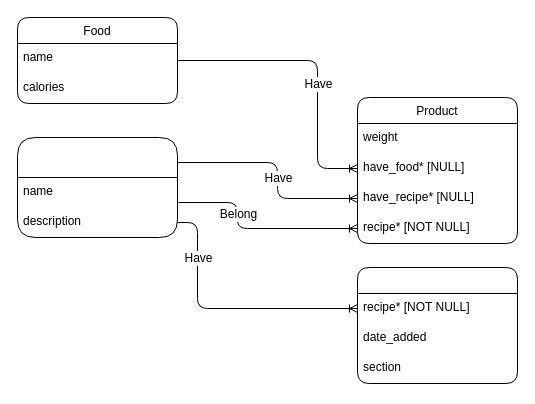
The diagram is 535 pixels wide and 404 high, and some of its shapes have lost their labels. The shapes that lost their labels are listed below. From the top down, each one's box as (x1, y1, x2, y2) in pixels, then its label:
(16, 136, 178, 238): Recipe simple/complex
(356, 266, 518, 384): Record
